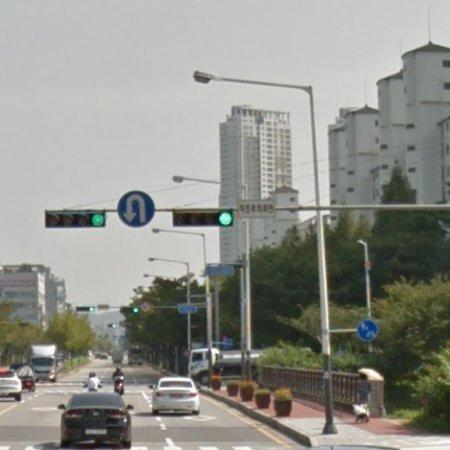traffic lights: (173, 209, 233, 227)
